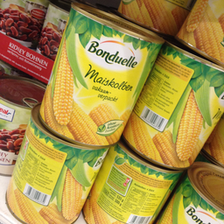corn: (39, 3, 163, 149), (124, 41, 224, 172), (6, 113, 108, 224), (80, 145, 180, 224)
